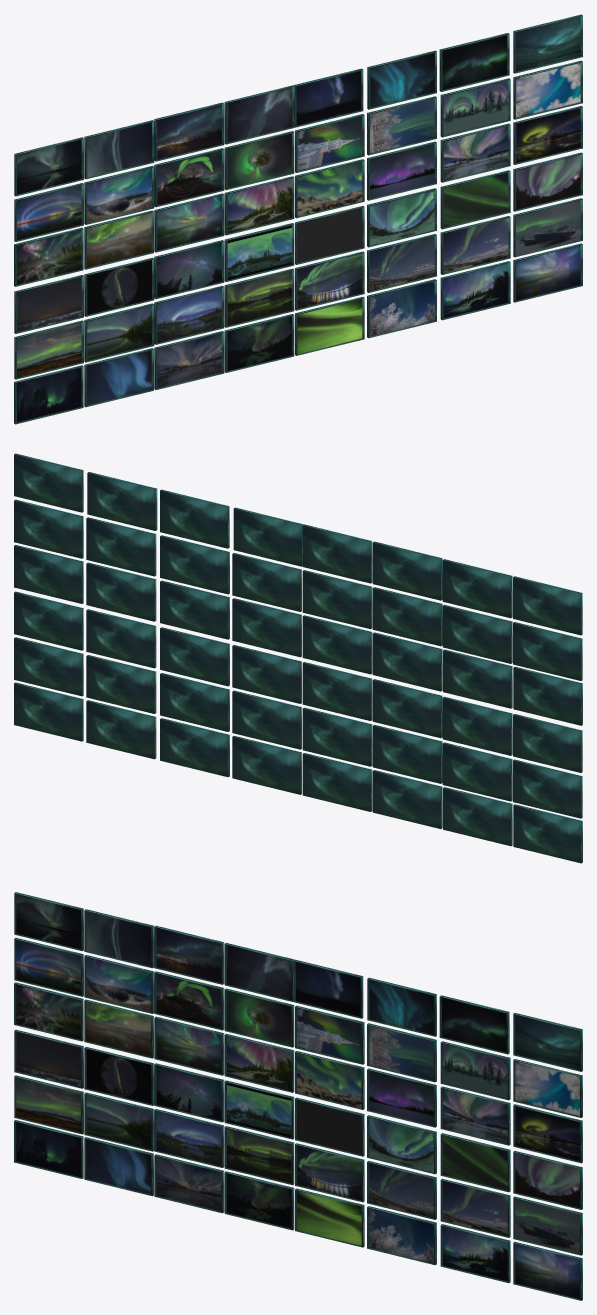
The model's file is paintings 2nd.fbx.
3 renders of one model, top to bottom at view 1: azimuth 30°, elevation 25°; view 2: azimuth 150°, elevation 25°; view 3: azimuth 330°, elevation 25°, orthographic.
Parts seen in each view (by area): view 1: Painting028, Painting019, Painting044, Painting003, Painting023, Painting031, Painting034, Painting036, Painting039, Painting042, Painting011, Painting035 (+36 smaller); view 2: Painting028, Painting019, Painting044, Painting003, Painting023, Painting031, Painting034, Painting036, Painting039, Painting042, Painting011, Painting035 (+36 smaller); view 3: Painting004, Painting007, Painting010, Painting020, Painting043, Painting047, Painting003, Painting015, Painting018, Painting023, Painting035, Painting036 (+36 smaller).
Part boxes in pixels (bbox=[...]): Painting028: bbox=[224, 176, 294, 235]; Painting019: bbox=[154, 240, 224, 299]; Painting044: bbox=[224, 85, 294, 144]; Painting003: bbox=[154, 331, 224, 389]; Painting023: bbox=[440, 170, 510, 229]; Painting031: bbox=[440, 123, 510, 182]; Painting034: bbox=[84, 165, 154, 224]; Painting036: bbox=[224, 131, 294, 190]; Painting039: bbox=[440, 78, 510, 137]; Painting042: bbox=[84, 120, 154, 179]; Painting011: bbox=[154, 285, 224, 344]; Painting035: bbox=[154, 148, 224, 207]; Painting028: bbox=[302, 615, 372, 674]; Painting019: bbox=[372, 679, 442, 738]; Painting044: bbox=[302, 524, 372, 583]; Painting003: bbox=[372, 770, 442, 828]; Painting023: bbox=[86, 609, 156, 668]; Painting031: bbox=[86, 562, 156, 621]; Painting034: bbox=[442, 604, 512, 663]; Painting036: bbox=[302, 570, 372, 629]; Painting039: bbox=[86, 517, 156, 576]; Painting042: bbox=[442, 559, 512, 618]; Painting011: bbox=[372, 724, 442, 783]; Painting035: bbox=[372, 587, 442, 646]; Painting004: bbox=[224, 1171, 294, 1230]; Painting007: bbox=[440, 1224, 510, 1283]; Painting010: bbox=[84, 1092, 154, 1151]; Painting020: bbox=[224, 1080, 294, 1139]; Painting043: bbox=[154, 925, 224, 984]; Painting047: bbox=[439, 995, 509, 1054]; Painting003: bbox=[154, 1154, 224, 1213]; Painting015: bbox=[440, 1178, 510, 1237]; Painting018: bbox=[84, 1047, 154, 1105]; Painting023: bbox=[440, 1133, 510, 1192]; Painting035: bbox=[154, 971, 224, 1030]; Painting036: bbox=[224, 988, 294, 1047].
Size of the model in its own units: 16.38 by 7.46 by 0.0742.
